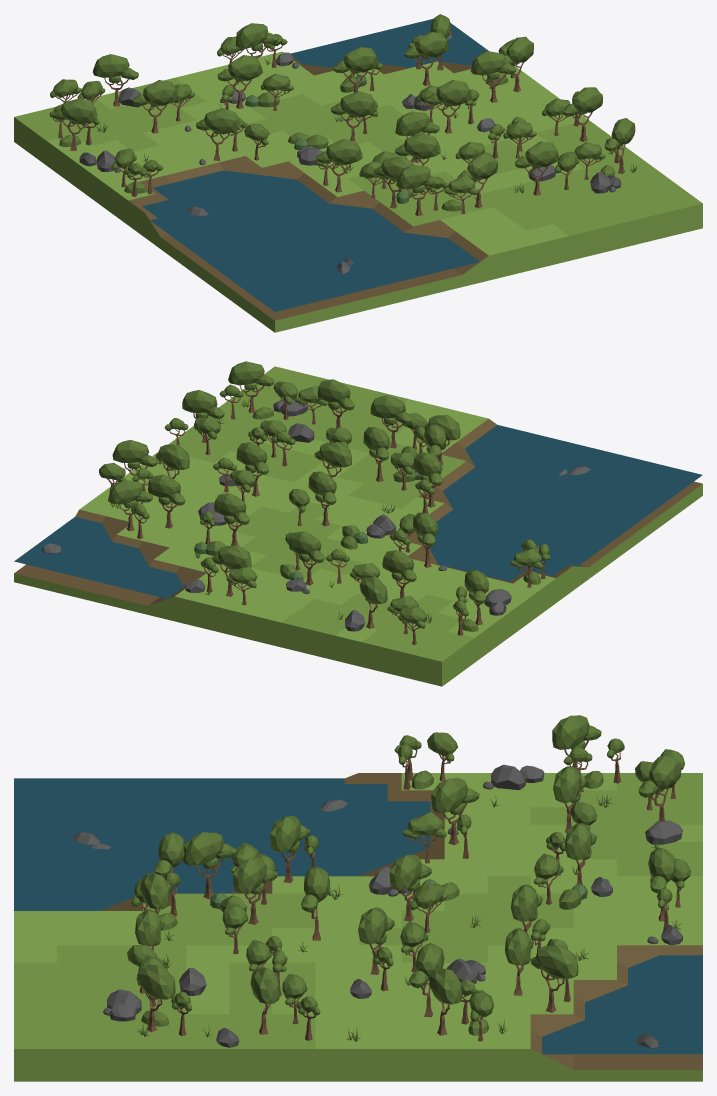
The model's file is fase_mataatlantica.fbx.
3 views of the same model, one above another, from view 1: azimuth 30°, elevation 25°; view 2: azimuth 150°, elevation 25°; view 3: azimuth 270°, elevation 25° (orthographic). The views are drawn at different scales.
Parts seen in each view (by area): view 1: Terreno Mata Atlantica, Agua Mata Atlantica, MataAtlantica Folhagem 3.007, MataAtlantica Folhagem 3.020, MataAtlantica Folhagem 3.014, MataAtlantica Folhagem 3.016, MataAtlantica Folhagem 3.022, MataAtlantica Folhagem 3.005, MataAtlantica Folhagem 3.012, MataAtlantica Folhagem 3.018, MataAtlantica Folhagem 3.011, MataAtlantica Folhagem 3.008 (+11 smaller); view 2: Terreno Mata Atlantica, Agua Mata Atlantica, MataAtlantica Folhagem 3.019, MataAtlantica Folhagem 3.015, MataAtlantica Folhagem 3.013, MataAtlantica Folhagem 3.001, MataAtlantica Folhagem 3.003, MataAtlantica Folhagem 3.010, MataAtlantica Folhagem 3.004, MataAtlantica Folhagem 3.011, MataAtlantica Folhagem 3.017, MataAtlantica Folhagem 3.018 (+12 smaller); view 3: Terreno Mata Atlantica, Agua Mata Atlantica, MataAtlantica Folhagem 3.002, MataAtlantica Folhagem 3.008, MataAtlantica Folhagem 3.006, MataAtlantica Folhagem 3.013, MataAtlantica Folhagem 3.012, MataAtlantica Folhagem 3.007, MataAtlantica Folhagem 3.016, MataAtlantica Folhagem 3.022, MataAtlantica Folhagem 3.019, MataAtlantica Folhagem 3.005 (+22 smaller).
Boxes of the visible parts, x1,y1,x2,y2 form: Terreno Mata Atlantica: (14,51,702,332); Agua Mata Atlantica: (142,18,488,311); MataAtlantica Folhagem 3.007: (92,54,138,83); MataAtlantica Folhagem 3.020: (470,51,516,79); MataAtlantica Folhagem 3.014: (396,164,441,192); MataAtlantica Folhagem 3.016: (330,91,376,117); MataAtlantica Folhagem 3.022: (316,139,362,165); MataAtlantica Folhagem 3.005: (426,80,472,106); MataAtlantica Folhagem 3.012: (395,133,440,159); MataAtlantica Folhagem 3.018: (132,80,178,107); MataAtlantica Folhagem 3.011: (217,55,262,82); MataAtlantica Folhagem 3.008: (196,108,240,134); Terreno Mata Atlantica: (14,366,702,686); Agua Mata Atlantica: (14,425,702,598); MataAtlantica Folhagem 3.019: (228,361,274,390); MataAtlantica Folhagem 3.015: (112,439,157,469); MataAtlantica Folhagem 3.013: (108,480,152,508); MataAtlantica Folhagem 3.001: (370,395,411,425); MataAtlantica Folhagem 3.003: (182,390,224,419); MataAtlantica Folhagem 3.010: (148,474,185,505); MataAtlantica Folhagem 3.004: (317,379,354,410); MataAtlantica Folhagem 3.011: (289,531,324,562); MataAtlantica Folhagem 3.017: (214,493,249,524); MataAtlantica Folhagem 3.018: (382,550,416,582); Terreno Mata Atlantica: (14,773,702,1081); Agua Mata Atlantica: (14,778,702,1054); MataAtlantica Folhagem 3.002: (183,832,236,868); MataAtlantica Folhagem 3.008: (431,778,479,814); MataAtlantica Folhagem 3.006: (552,715,601,749); MataAtlantica Folhagem 3.013: (530,945,578,978); MataAtlantica Folhagem 3.012: (233,857,277,894); MataAtlantica Folhagem 3.007: (638,754,681,797); MataAtlantica Folhagem 3.016: (389,854,431,891); MataAtlantica Folhagem 3.022: (270,816,310,852); MataAtlantica Folhagem 3.019: (136,964,175,999); MataAtlantica Folhagem 3.005: (358,907,394,944).
Bounding box in the file's own units: 3616 × 628 × 3800.
